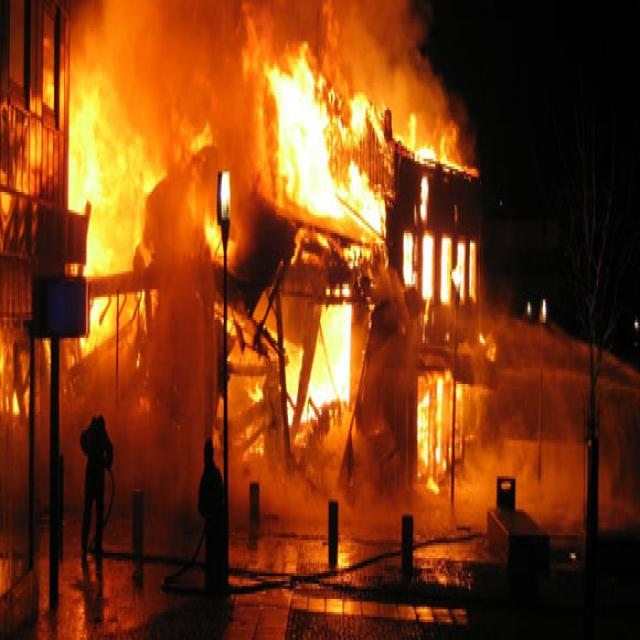Fire: (70, 98, 163, 344), (276, 55, 380, 240), (293, 297, 364, 422), (406, 223, 484, 299), (398, 118, 468, 180), (419, 379, 453, 484)
Smoke: (89, 0, 292, 175), (77, 344, 197, 515), (327, 0, 444, 106), (215, 464, 338, 530)
